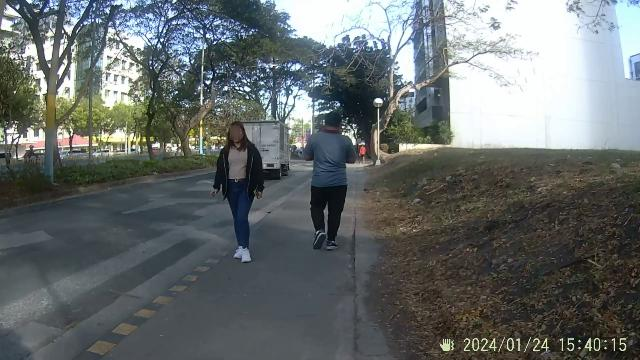lamp_post: (372, 95, 384, 169)
